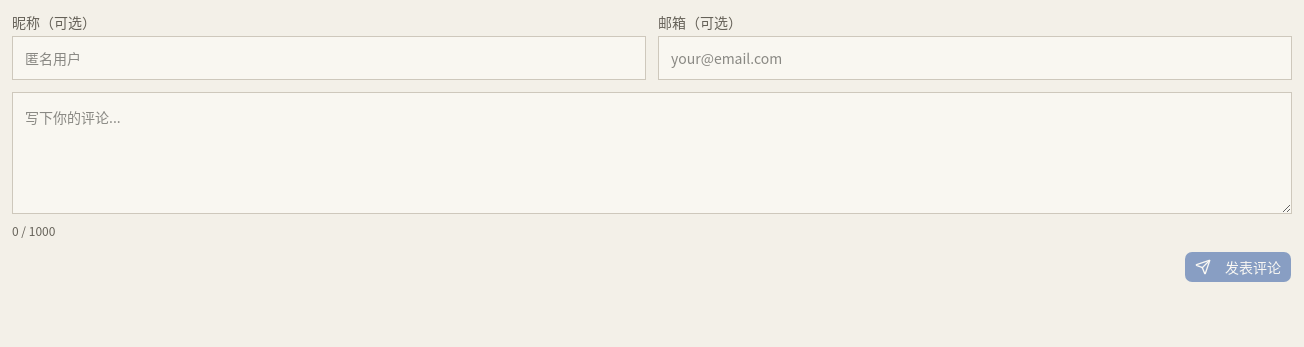
CommentForm › should handle submit errors
Type "Test comment" into the text box with placeholder "写下你的评论...". click: (652, 153)
box: [12,92,1292,214]
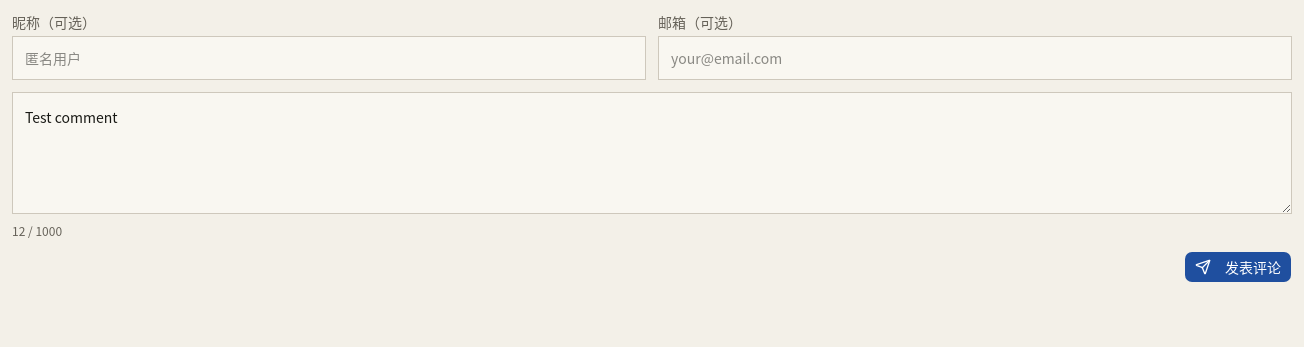
Click the button "发表评论". click: (1238, 267)
box: [1184,251,1292,283]
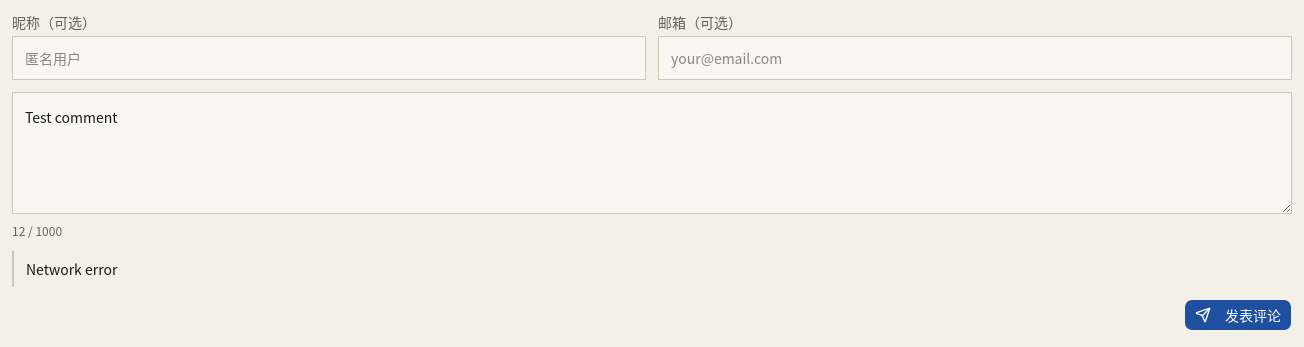
Now the text "Network error" is shown, box [12,251,1292,287]
